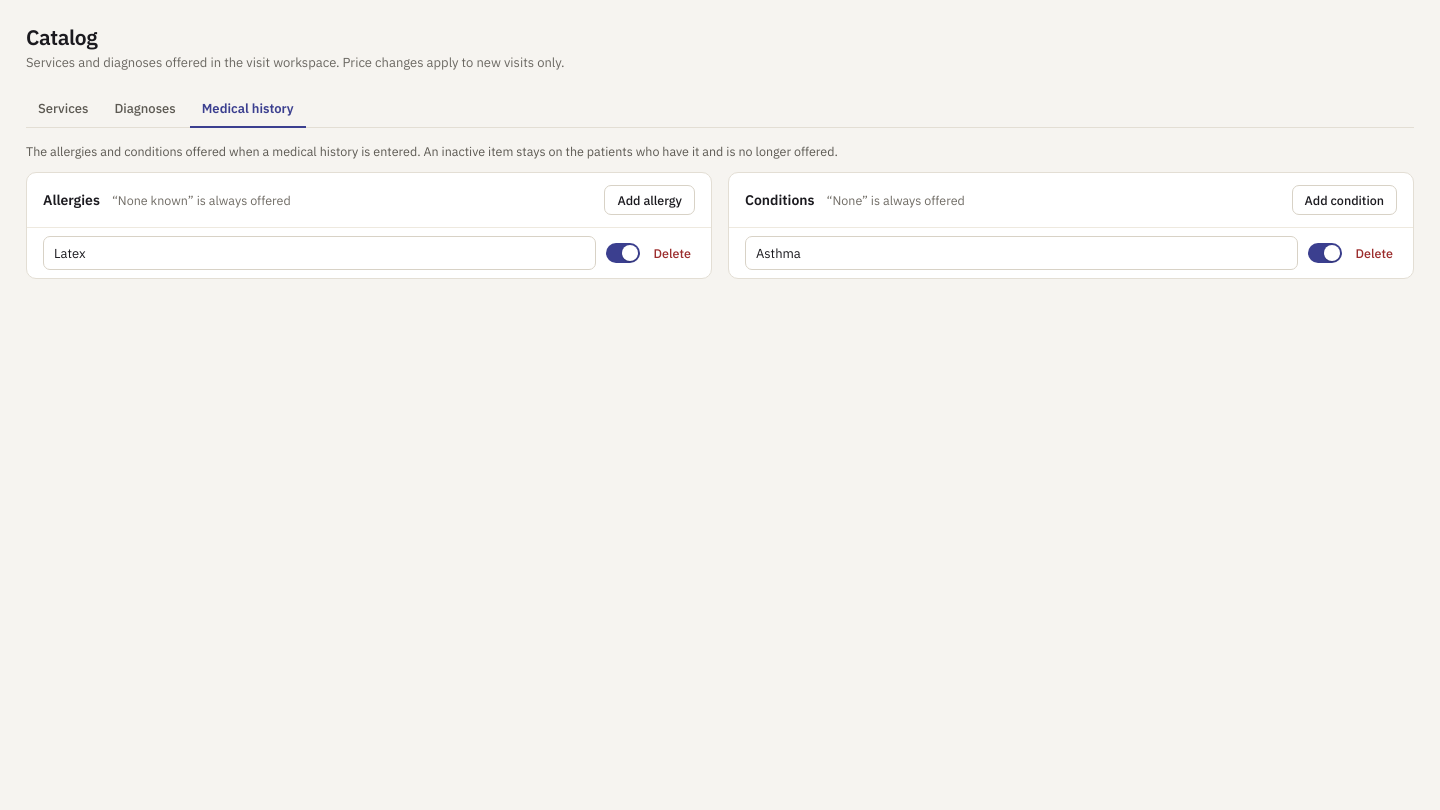
Test: CatalogPage › edits the medical-history lists on their own tab and saves the changed rows in one batch
The image size is (1440, 810).
Expected: the field showing "Latex" below "“None known” is always offered" is shown, [43, 236, 596, 270]
Expected: the field showing "Asthma" below "“None” is always offered" is shown, [745, 236, 1298, 270]
Click the button "Add allergy". click: coordinates (650, 200)
box: [604, 185, 695, 215]
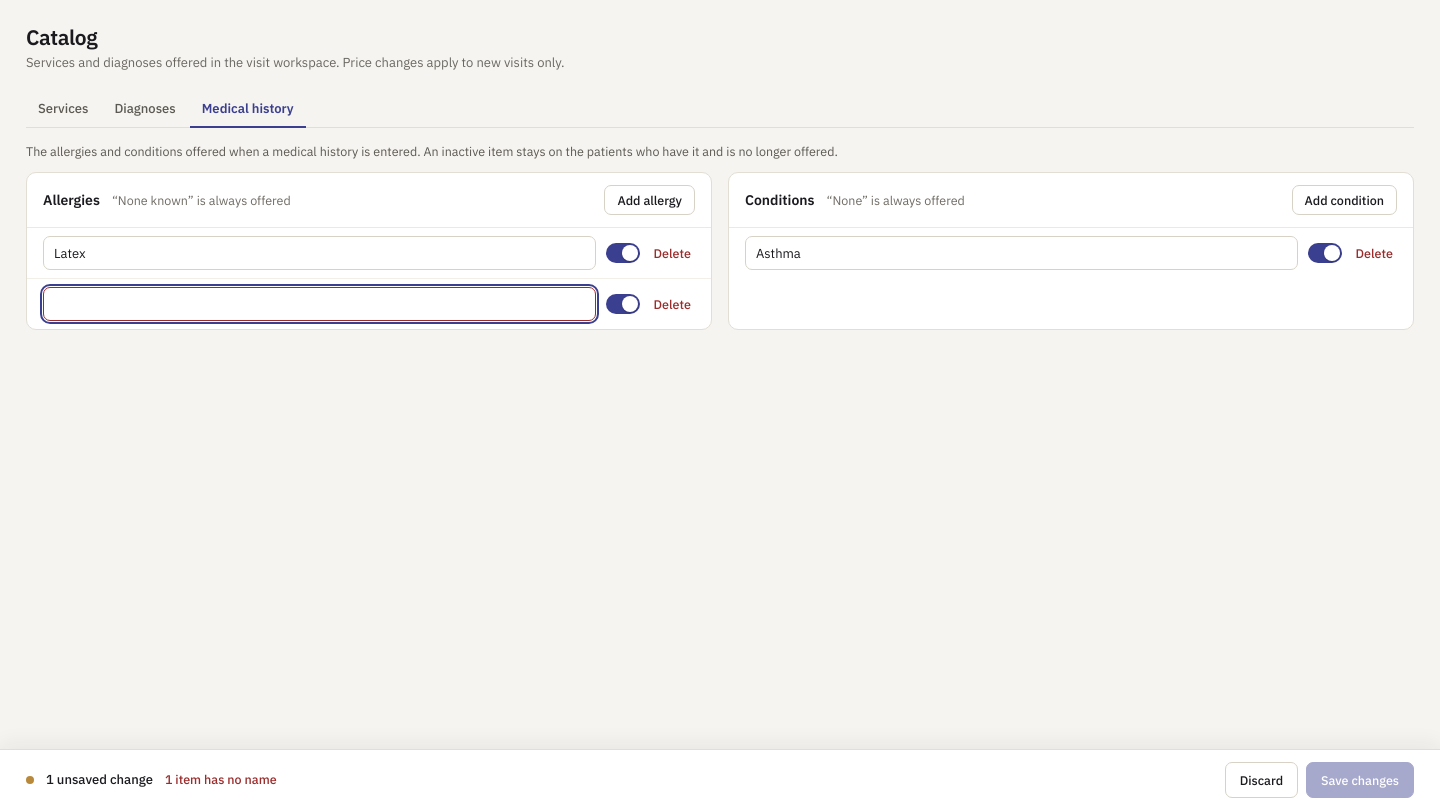
Type "latex" into the 3rd field named "Name". click: coordinates (319, 304)
box: [43, 287, 596, 321]
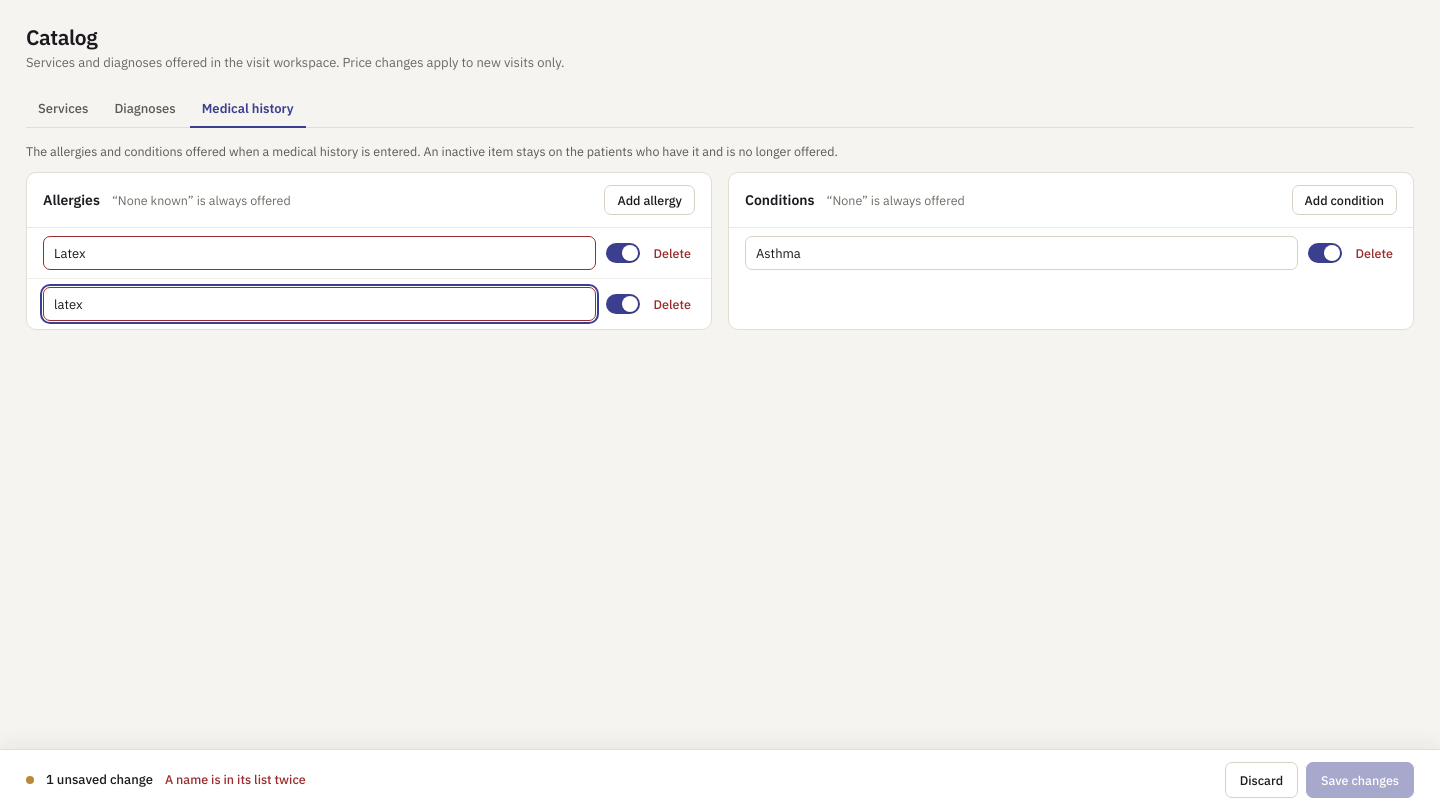
Expected: the text "A name is in its list twice" is shown, [165, 772, 306, 788]
Replace the text in the 3rd field named "Name" with " Sulfa ". click: coordinates (319, 304)
box: [43, 287, 596, 321]
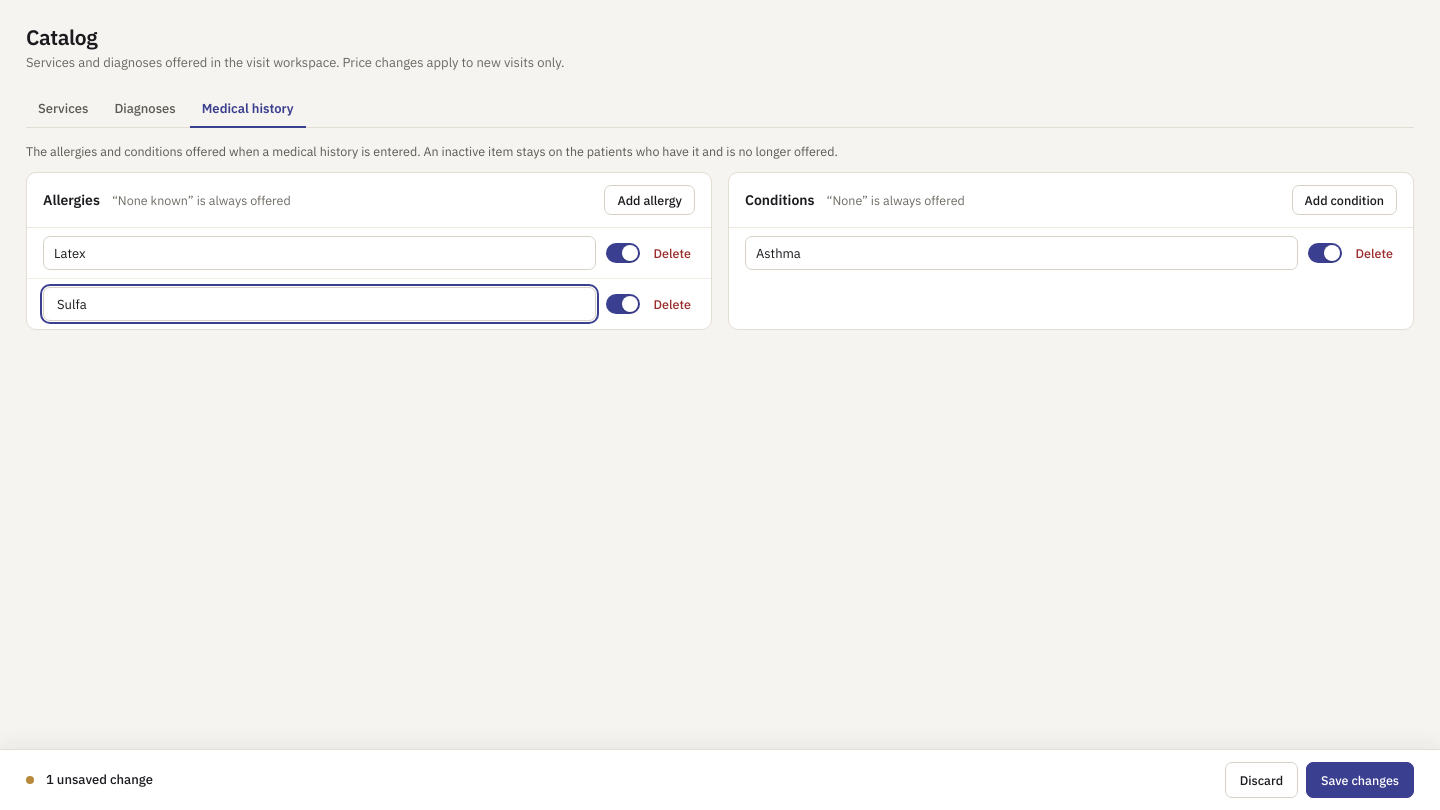
Click the button "Save changes". click: coordinates (1360, 780)
box: [1306, 762, 1414, 798]
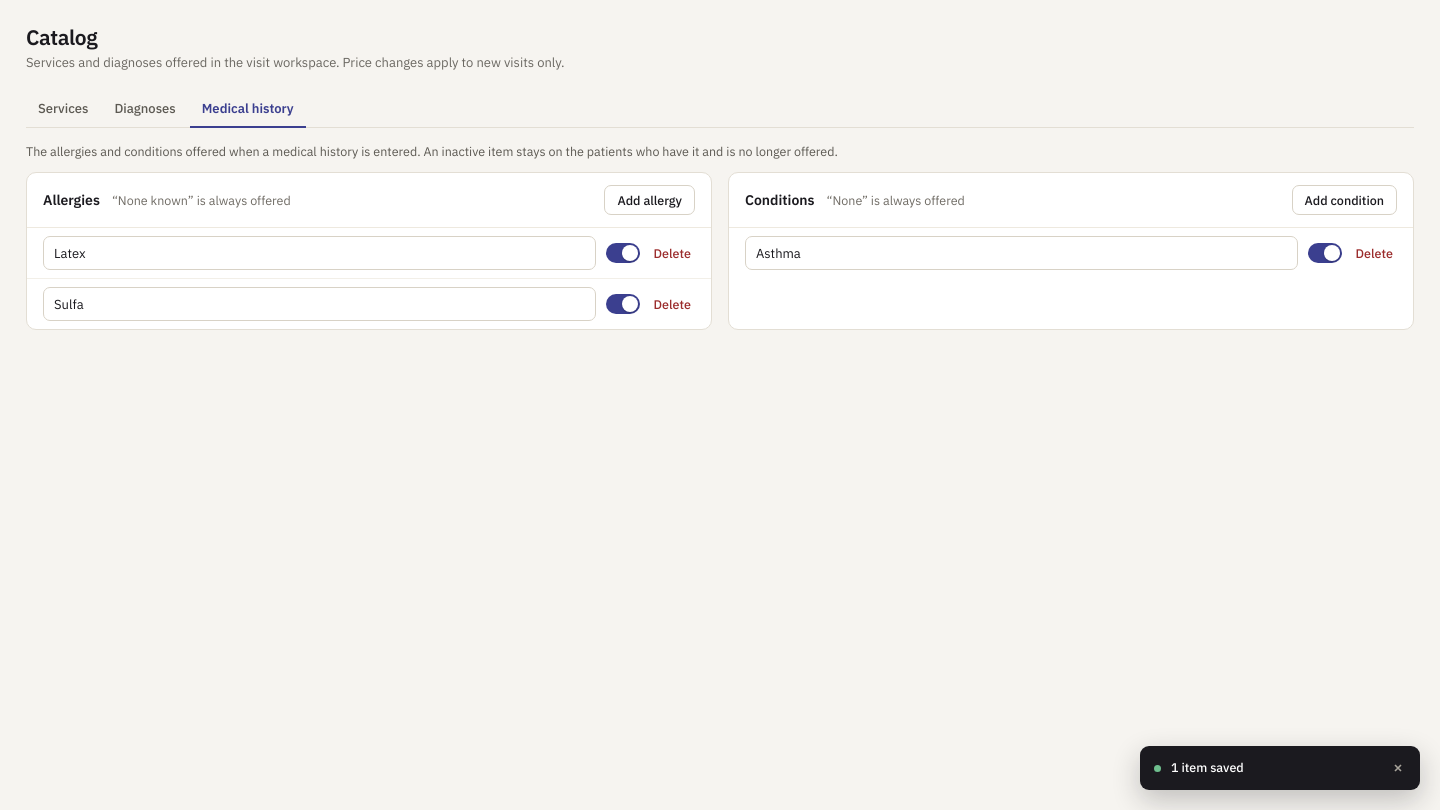
Expected: the text "unsaved" is gone
